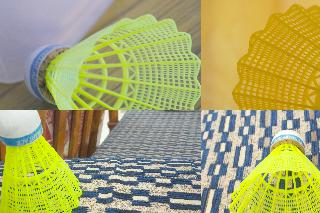shuttlecock: (24, 13, 200, 109), (232, 4, 319, 109), (0, 110, 83, 212), (227, 129, 319, 212)
